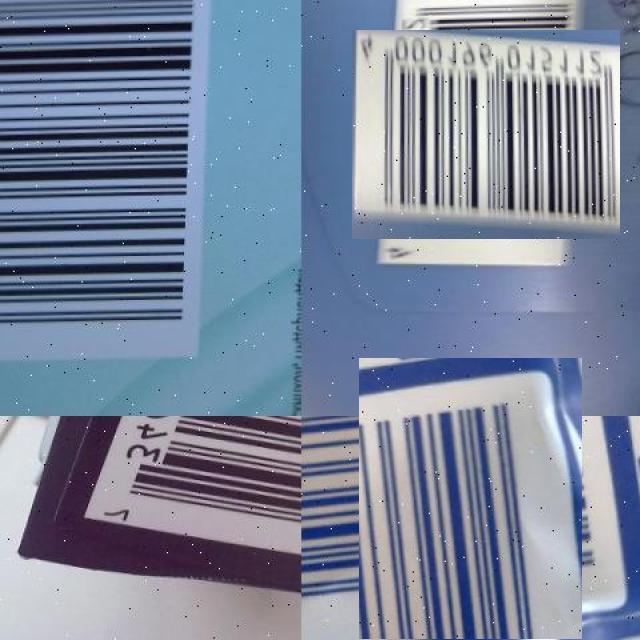Barcode: (0, 0, 216, 361), (330, 387, 612, 640), (367, 15, 605, 254), (87, 416, 301, 580)
